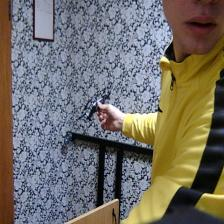drone: (74, 82, 118, 122)
